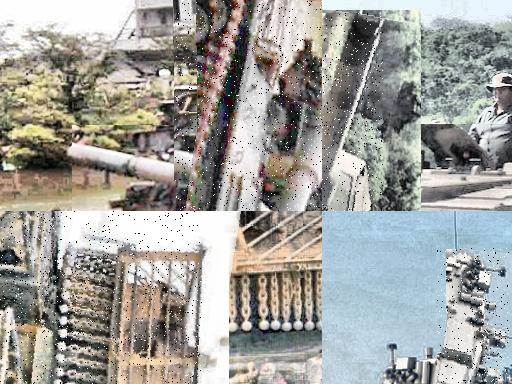tanks: (1, 212, 203, 384), (185, 1, 273, 212), (323, 14, 384, 212), (438, 250, 510, 384), (411, 125, 420, 128)
